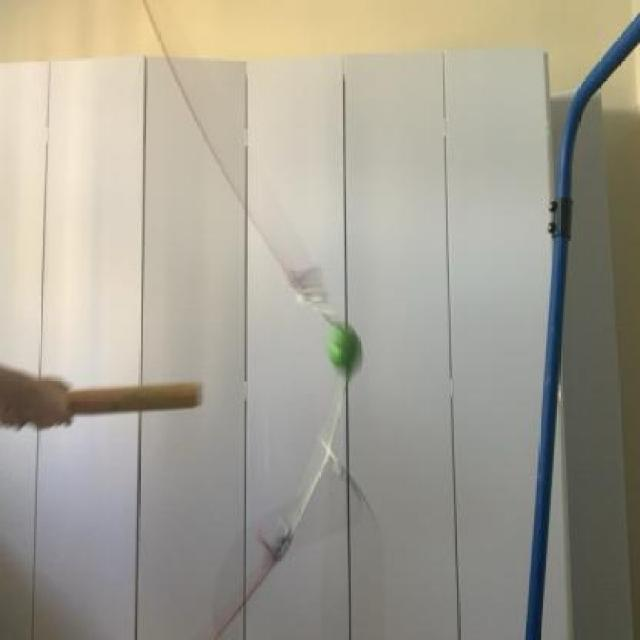baseball: (326, 317, 362, 378)
